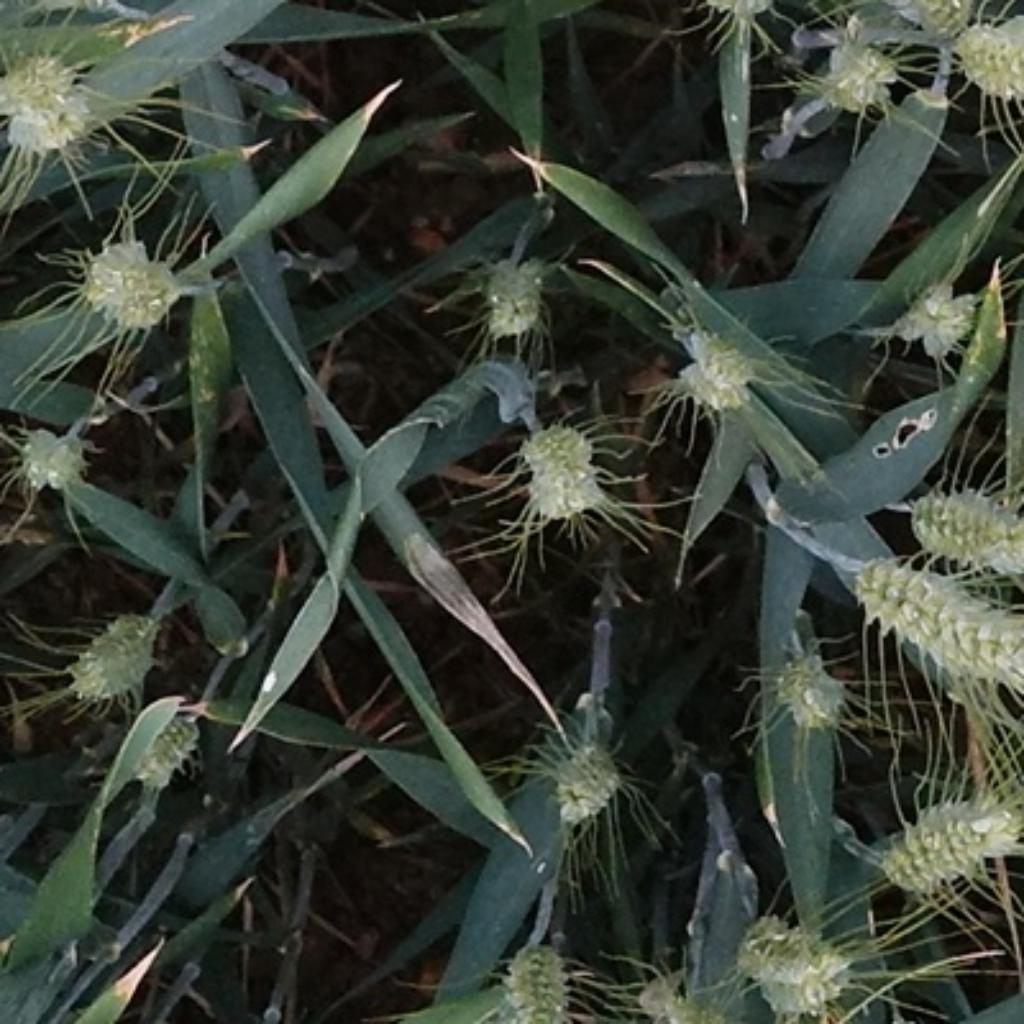0-0: (842, 542, 1024, 696), (867, 790, 1024, 913), (729, 898, 857, 1011), (56, 593, 166, 713), (68, 227, 188, 335), (2, 38, 110, 156), (898, 468, 1024, 568), (506, 418, 611, 533), (532, 714, 632, 829), (468, 240, 561, 350), (660, 322, 760, 419), (764, 650, 861, 745), (814, 34, 912, 123), (886, 275, 986, 360), (947, 0, 1024, 107), (626, 947, 727, 1021), (492, 938, 577, 1024), (125, 706, 204, 793), (11, 420, 91, 499), (862, 0, 988, 35)
